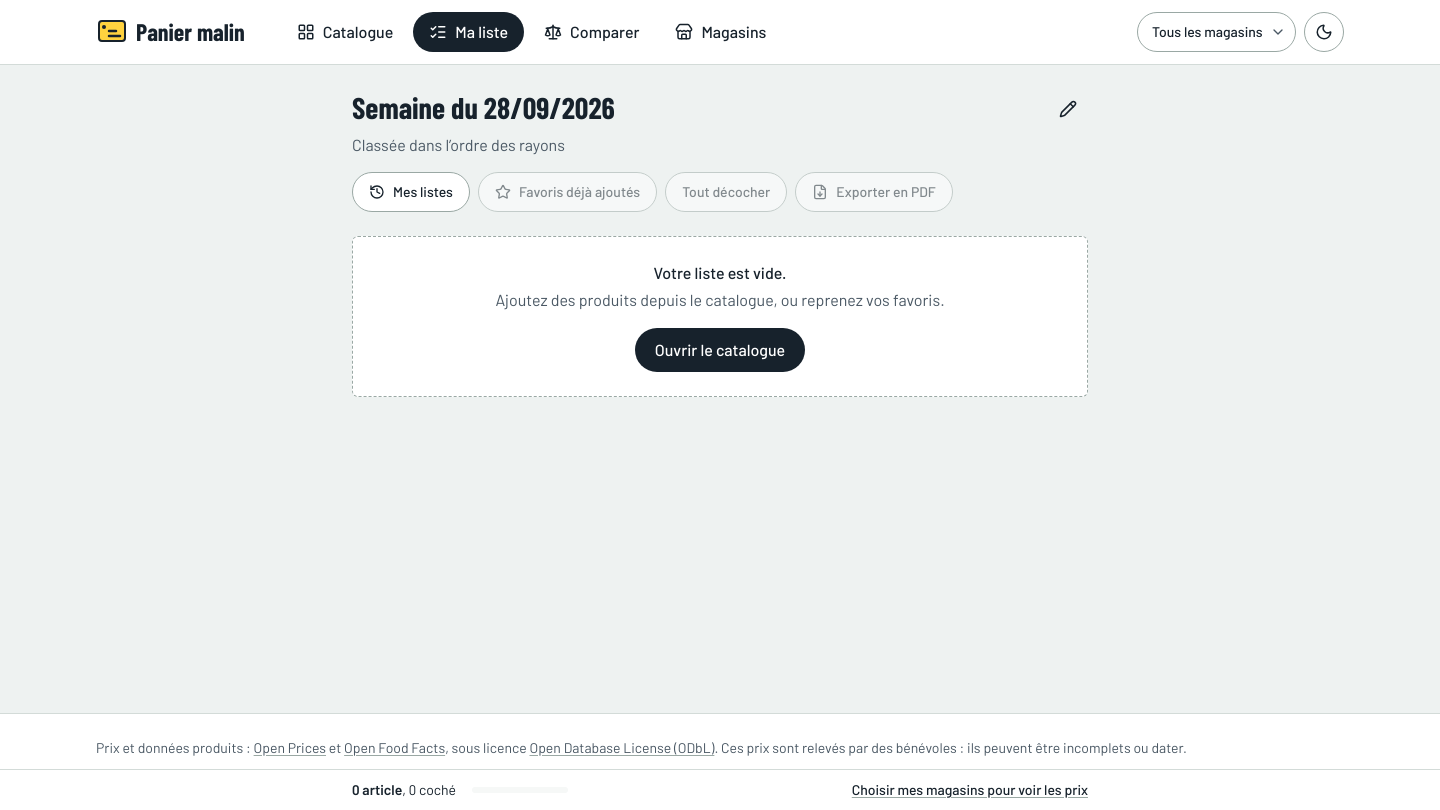
Test: liste de la semaine › se renomme
The width and height of the screenshot is (1440, 810).
Click the button named "Renommer la liste": x=1068, y=109 [1048,89,1088,129]
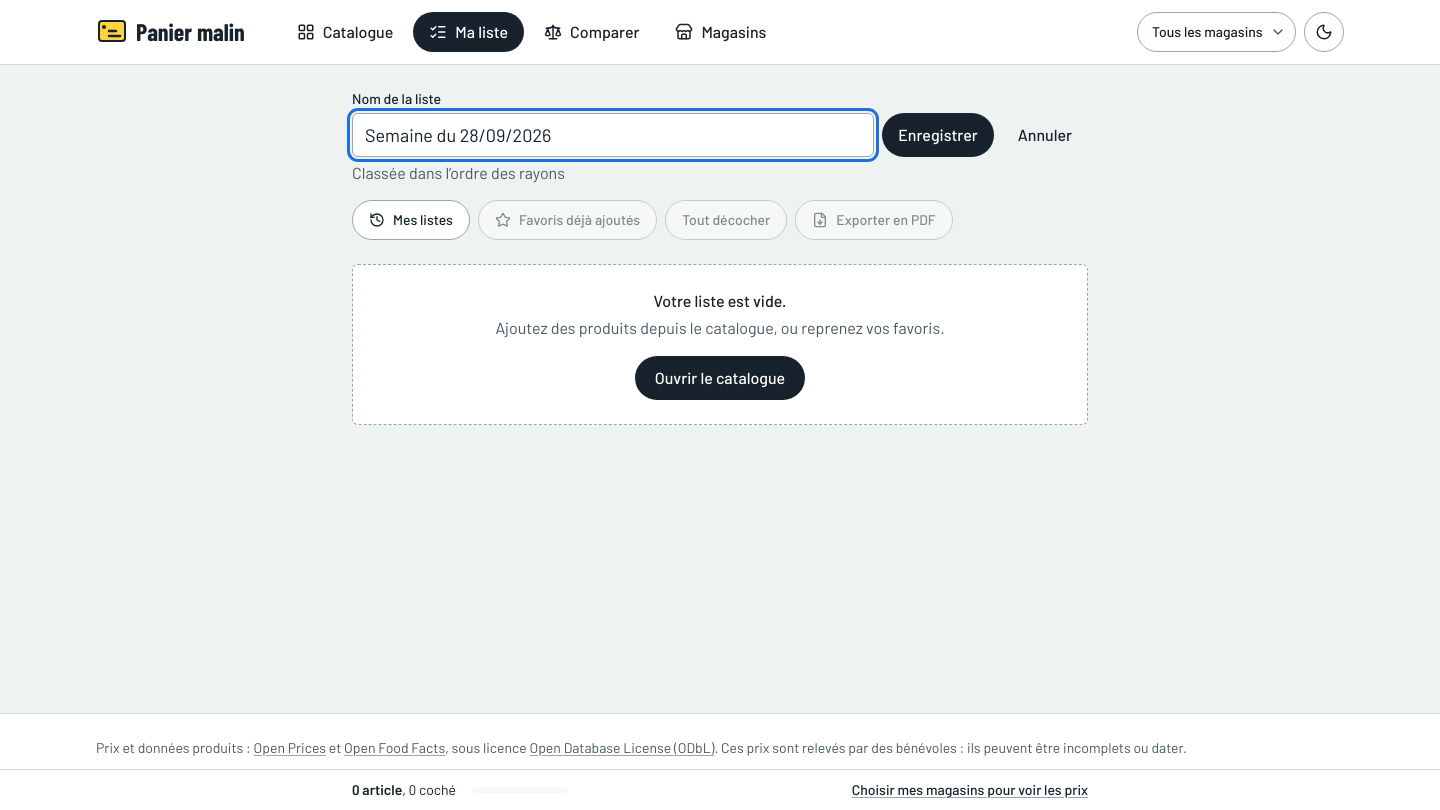
Replace the text in the field labelled "Nom de la liste" with "Courses du samedi": x=613, y=135 [352,113,874,157]
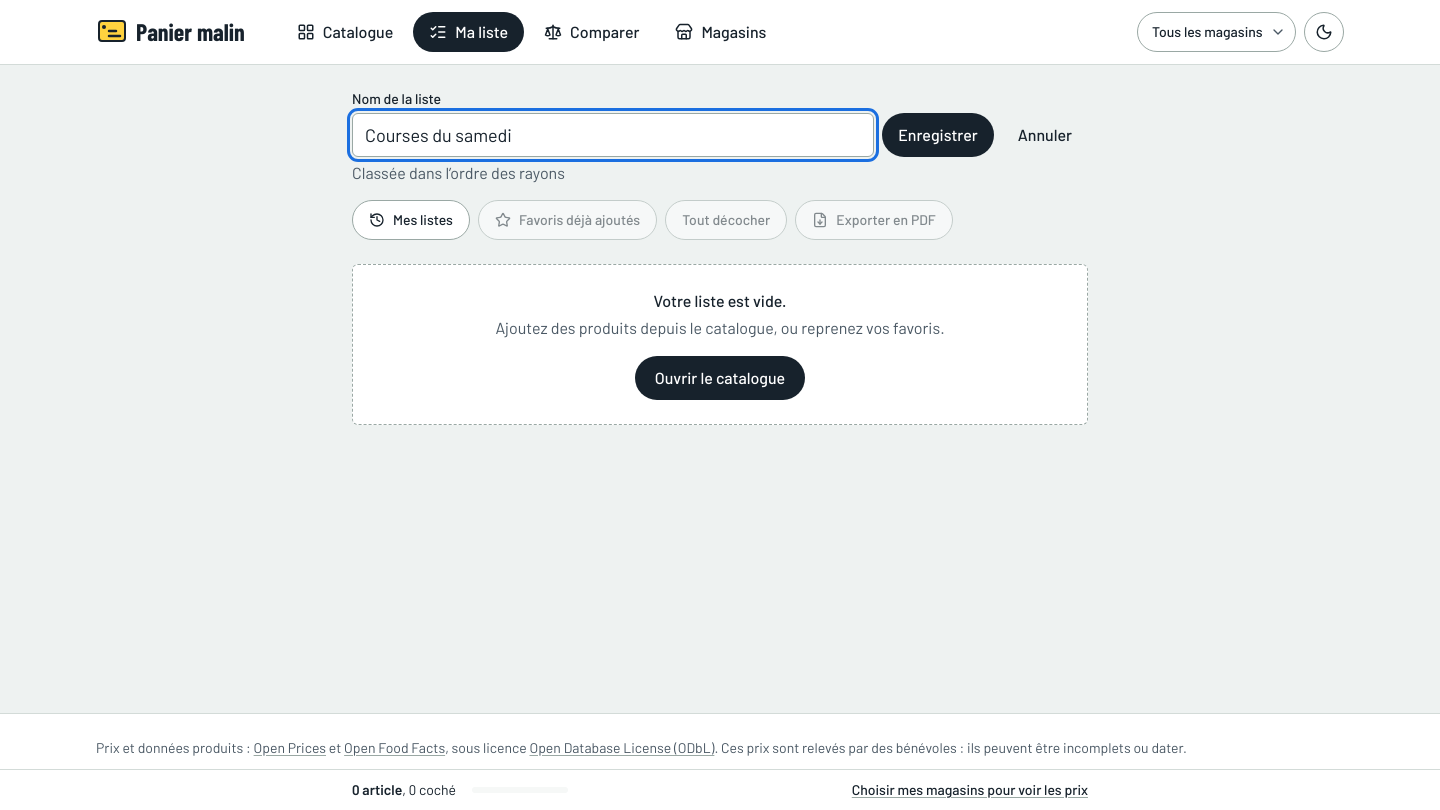
Click the button "Enregistrer": x=938, y=135 [882,113,994,157]
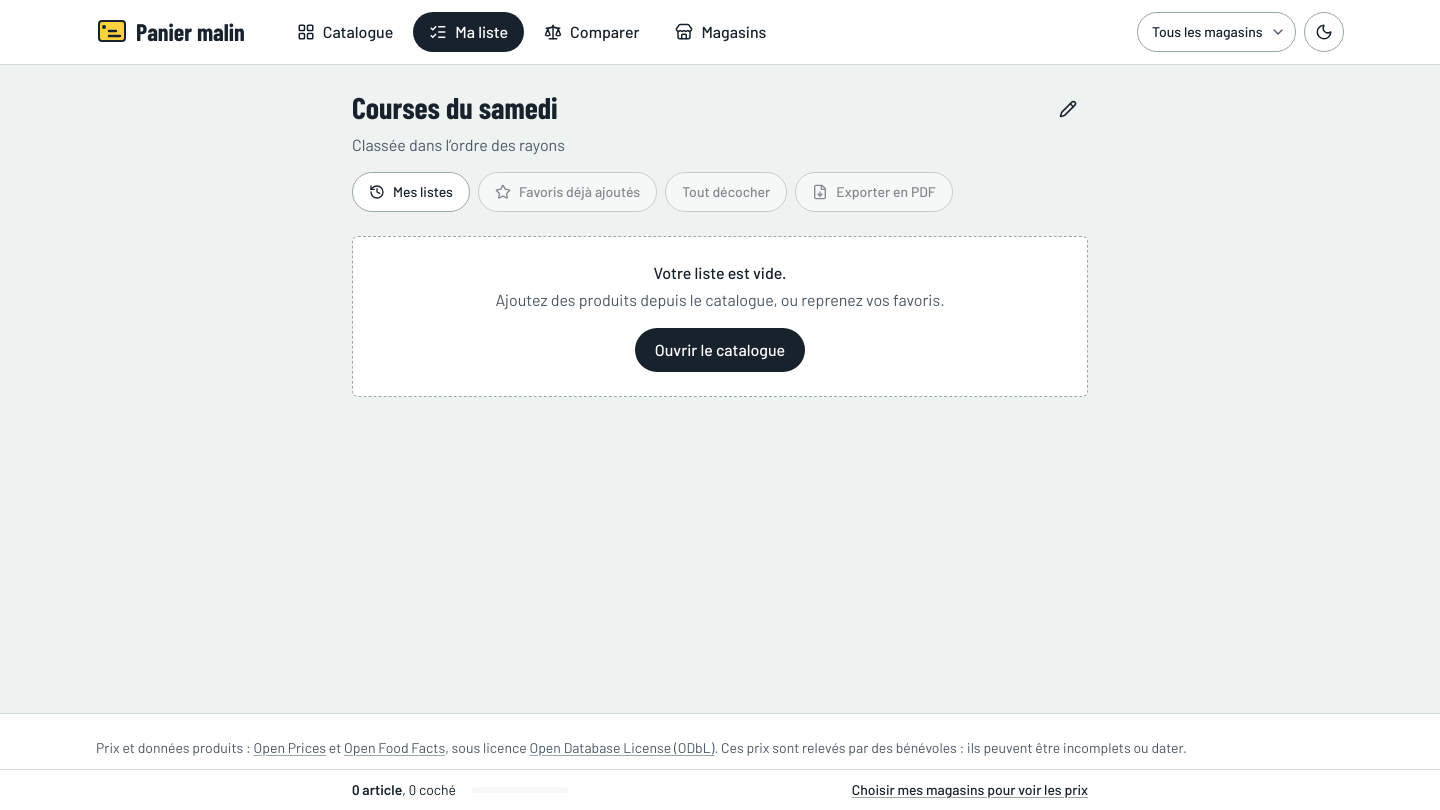
Result: the heading "Courses du samedi" is shown at [352,89,558,125]
